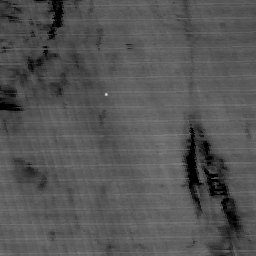Target: (102, 91, 109, 98)
